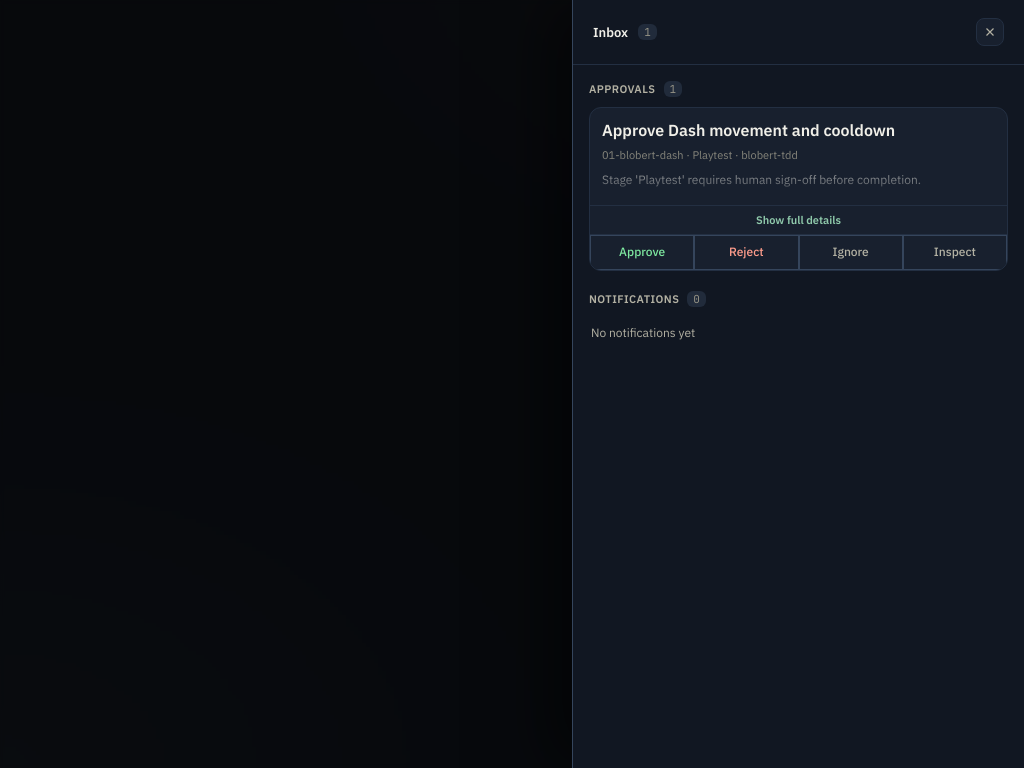
Scenario: ApprovalInboxPanel inspect target › opens the clamped card in a modal
The width and height of the screenshot is (1024, 768).
Click the button with aria-label "show the full approval". click: (798, 220)
box: 590,205 -> 1007,234
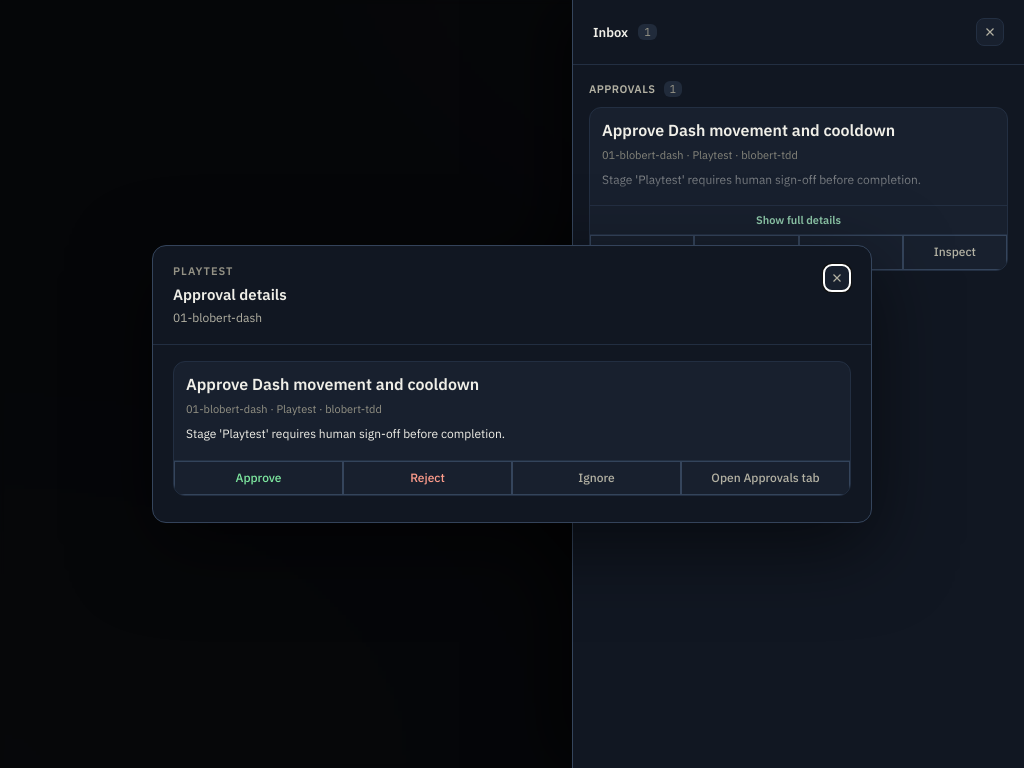
expect the dialog "Approval details" is shown: met, box 152,245 -> 872,523
